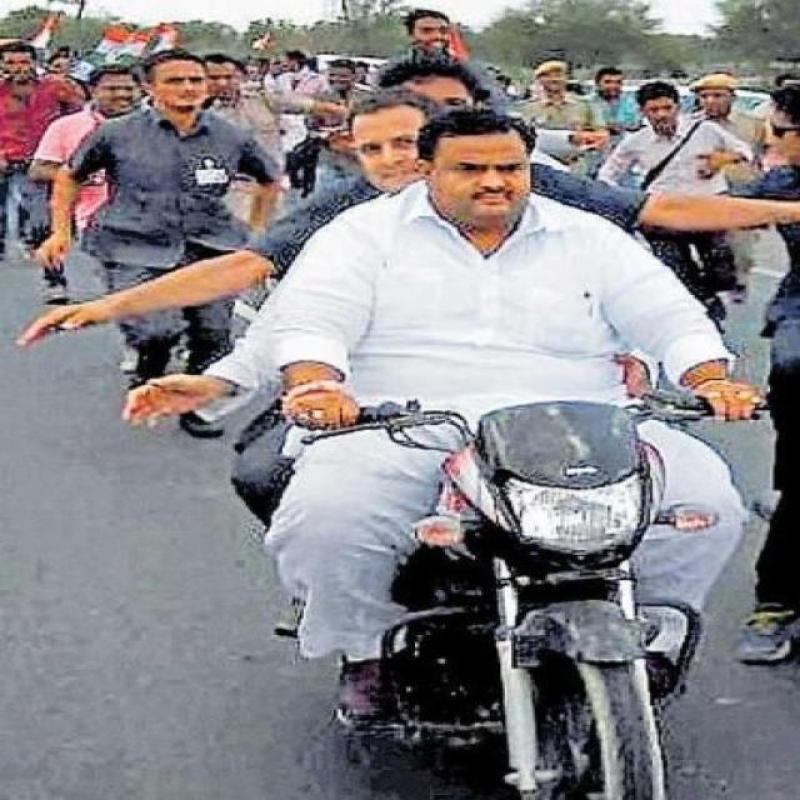nohelmet: (314, 85, 432, 194), (426, 120, 542, 228)
